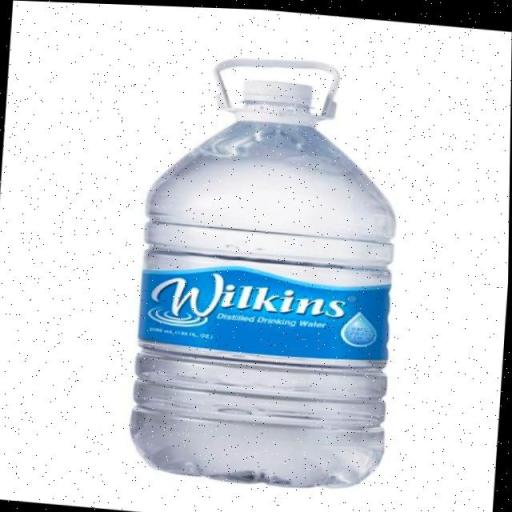plastic: (120, 42, 413, 500)
